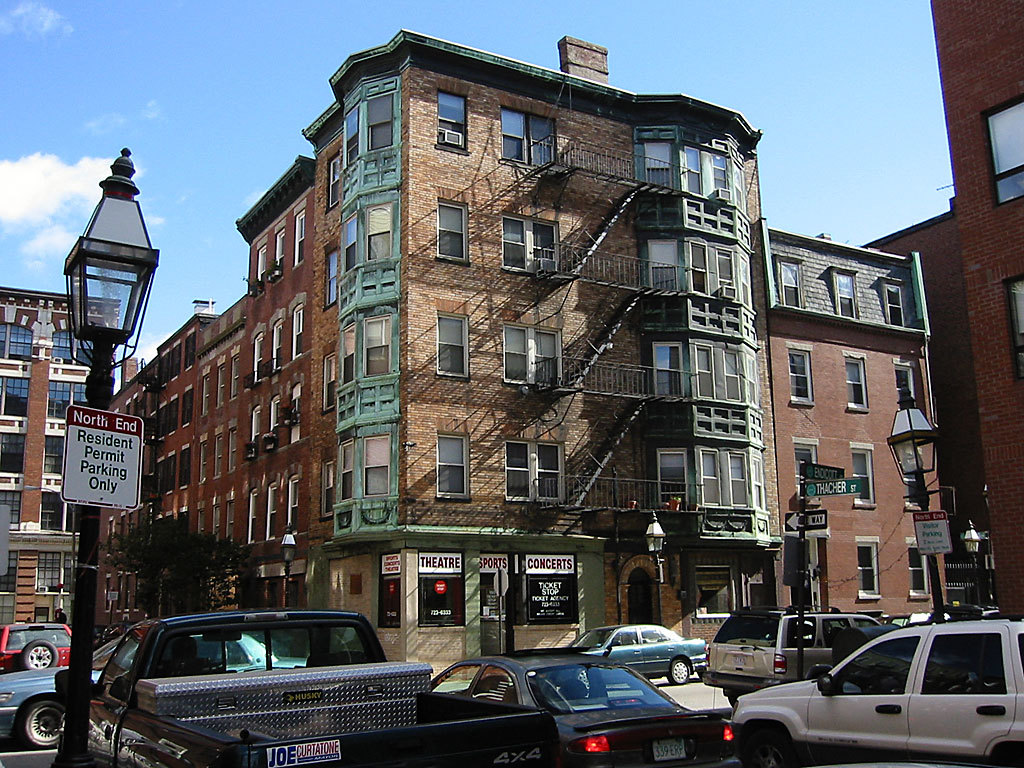Car: (428, 602, 1022, 767), (0, 629, 309, 744), (0, 620, 69, 673)
